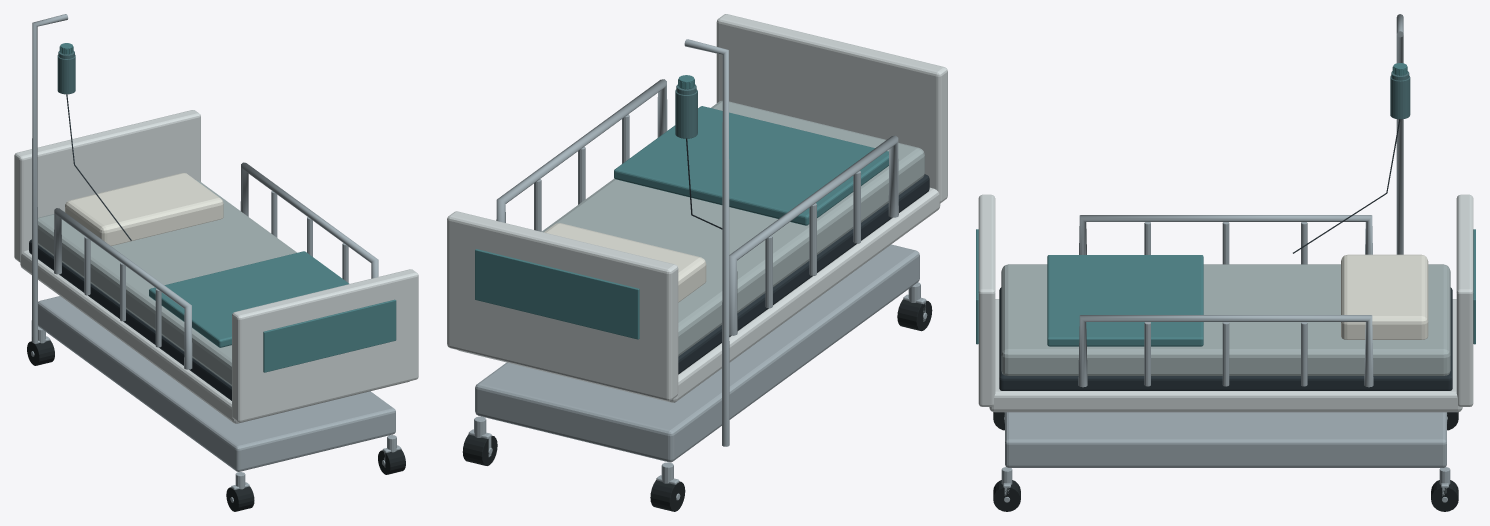
File: RD_MedicalBed.fbx
3 renders of one model, left to right at view 1: azimuth 30°, elevation 25°; view 2: azimuth 150°, elevation 25°; view 3: azimuth 270°, elevation 25°, orthographic. The views are drawn at different scales.
Parts seen in each view (by area): view 1: RD_MedicalBed; view 2: RD_MedicalBed; view 3: RD_MedicalBed.
Boxes of the visible parts, left/top/right/bottom form: RD_MedicalBed: left=14, top=14, right=418, bottom=511; RD_MedicalBed: left=447, top=14, right=947, bottom=511; RD_MedicalBed: left=976, top=14, right=1475, bottom=511.
Bounding box in the file's own units: 115 × 197 × 224.
